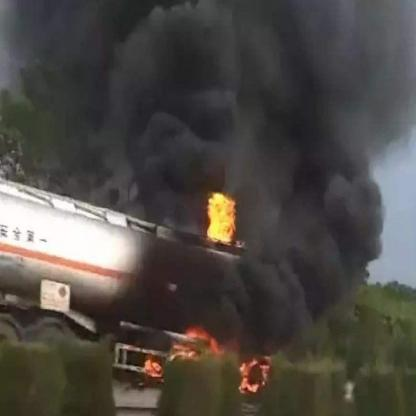fire: (136, 316, 281, 406), (192, 181, 239, 253)
smoke: (37, 3, 390, 192), (190, 154, 386, 330)
